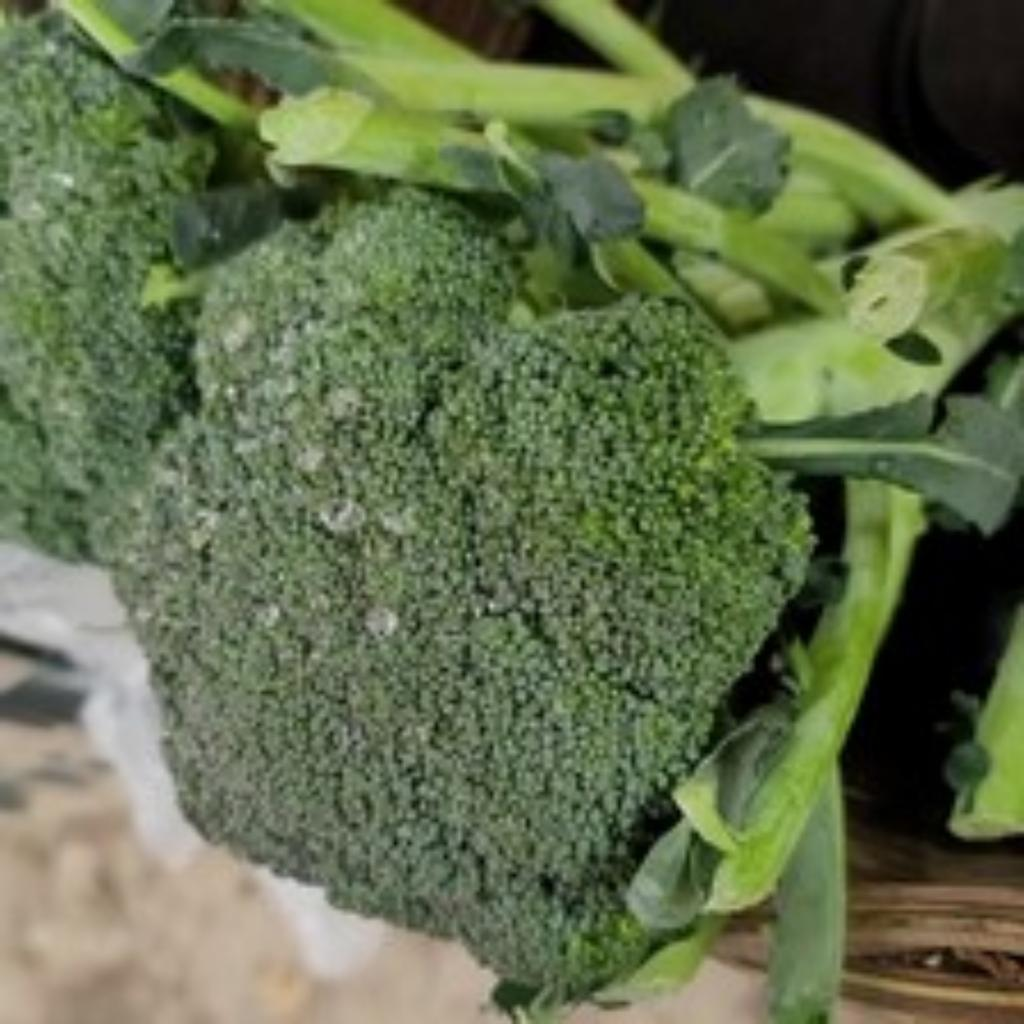Broccoli: (124, 190, 806, 995), (124, 192, 806, 997)
